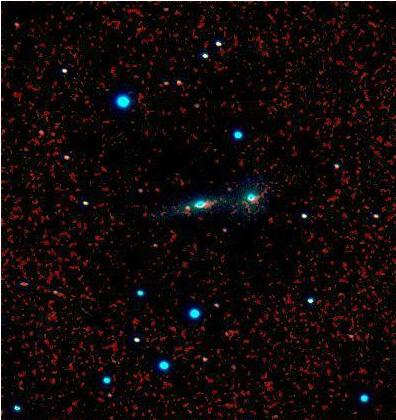star: (164, 190, 194, 220)
